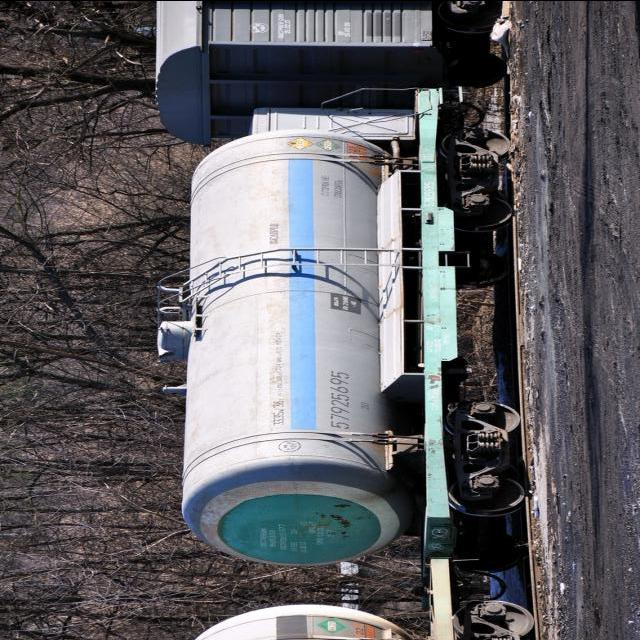wagon: (326, 370, 358, 430)
